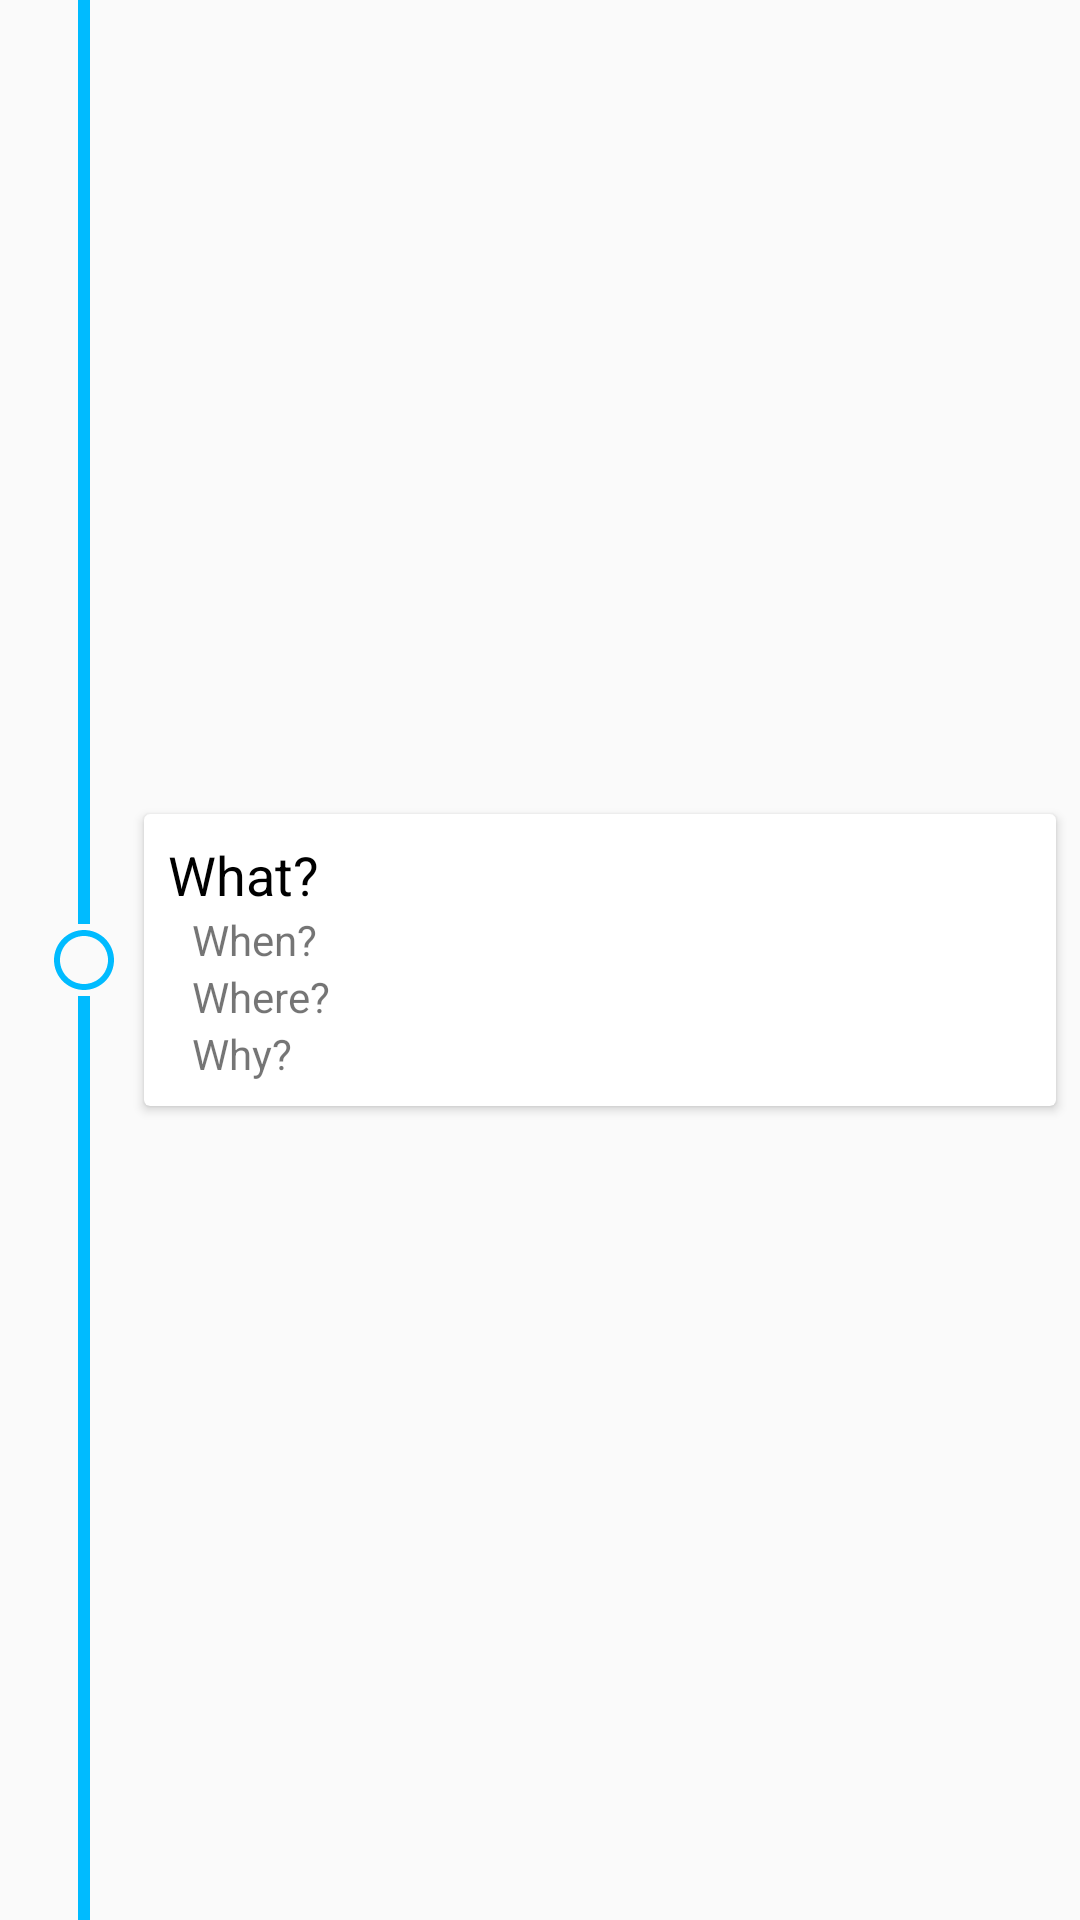

Screen size 1080*1920. Icon name, then its box in pixels as (x1, y1, x2, y2):
uncompleted task: (54, 930, 114, 990)
